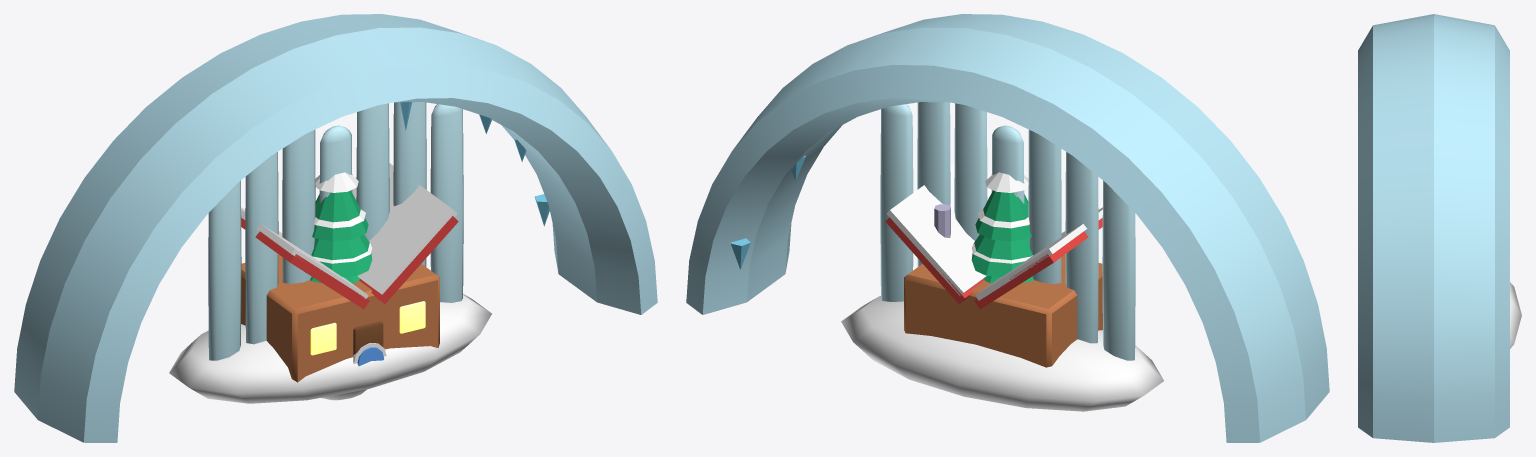
The model's file is frost.glb.
3 renders of one model, left to right at view 1: azimuth 30°, elevation 25°; view 2: azimuth 150°, elevation 25°; view 3: azimuth 270°, elevation 25°, orthographic. The views are drawn at different scales.
Visible parts, largest first — view 1: cave_arch, frozen_fall, ski_lodge, pine_snow_b, igloo; view 2: cave_arch, frozen_fall, ski_lodge, pine_snow_b; view 3: cave_arch, frozen_fall.
Boxes of the visible parts, x1,y1,x2,y2 form: cave_arch: (14,14,657,442); frozen_fall: (169,102,491,403); ski_lodge: (241,163,458,382); pine_snow_b: (305,172,372,283); igloo: (321,343,386,400); cave_arch: (686,14,1329,442); frozen_fall: (841,102,1163,411); ski_lodge: (885,163,1102,367); pine_snow_b: (971,172,1038,283); cave_arch: (1358,14,1509,442); frozen_fall: (1510,282,1521,348).
Size of the model in its own units: 32.2 by 18.6 by 8.76.
